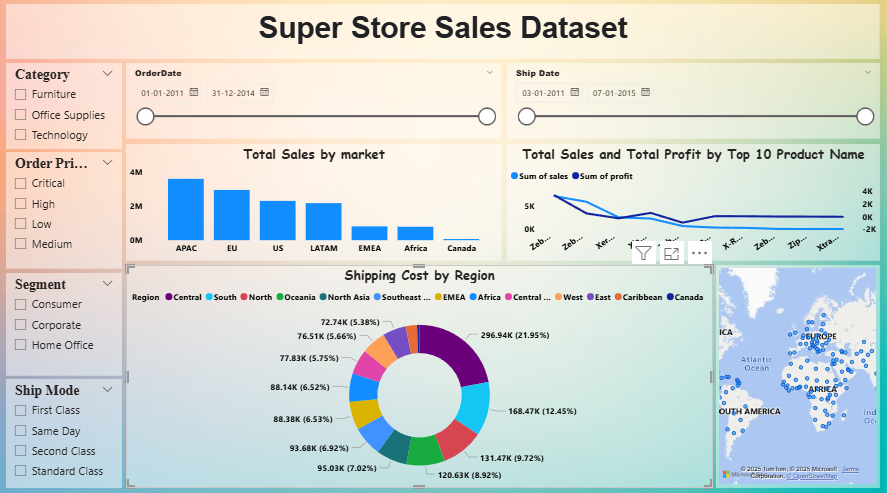

What the dashboard file says about the page in this screenshot:
{"tool":"powerbi","page":{"name":"Page 1","canvas":[1280,720],"ordinal":0},"visuals":[{"type":"textbox","box":[10.1,11.8,1258.2,79],"z":0},{"type":"slicer","fields":{"Values":["SuperStoreOrders.category"]},"box":[10.1,96.5,167,123.8],"z":1},{"type":"slicer","fields":{"Values":["SuperStoreOrders.order_priority"]},"box":[10.1,224.6,167,168.5],"z":2},{"type":"slicer","fields":{"Values":["SuperStoreOrders.segment"]},"box":[10.1,398.9,167,148.3],"z":3},{"type":"slicer","fields":{"Values":["SuperStoreOrders.ship_mode"]},"box":[10.1,551.5,167,157],"z":4},{"type":"slicer","fields":{"Values":["SuperStoreOrders.order_date"]},"box":[182.9,96.5,541.4,109.4],"z":5},{"type":"slicer","fields":{"Values":["SuperStoreOrders.ship_date"]},"box":[731.5,96.5,537.1,109.4],"z":6},{"type":"clusteredColumnChart","title":"Total Sales by market","fields":{"Category":["SuperStoreOrders.market"],"Y":["Sum(SuperStoreOrders.sales)"]},"box":[182.9,213.1,541.4,168.5],"z":7},{"type":"lineChart","title":"Total Sales and Total Profit by Top 10 Product Name","fields":{"Category":["SuperStoreOrders.product_name"],"Y":["Sum(SuperStoreOrders.sales)"],"Y2":["Sum(SuperStoreOrders.profit)"]},"box":[732,213,537,168],"z":8},{"type":"donutChart","title":"Shipping Cost by Region","fields":{"Category":["SuperStoreOrders.region"],"Y":["Sum(SuperStoreOrders.shipping_cost)"]},"box":[182.9,387.4,845.3,321.1],"z":9},{"type":"map","fields":{"Category":["SuperStoreOrders.country"]},"box":[1032.5,387.4,236.2,321.1],"z":10}]}

Visuals, with their boxes in screenshot pixels (x1, y1, x2, y2), scaled from the page's 1280x720 canvas onto the 887x493 screenshot:
textbox: 7,8,879,62
slicer - SuperStoreOrders.category: 7,66,123,151
slicer - SuperStoreOrders.order_priority: 7,154,123,269
slicer - SuperStoreOrders.segment: 7,273,123,375
slicer - SuperStoreOrders.ship_mode: 7,378,123,485
slicer - SuperStoreOrders.order_date: 127,66,502,141
slicer - SuperStoreOrders.ship_date: 507,66,879,141
"Total Sales by market" clusteredColumnChart: 127,146,502,261
"Total Sales and Total Profit by Top 10 Product Name" lineChart: 507,146,879,261
"Shipping Cost by Region" donutChart: 127,265,713,485
map - SuperStoreOrders.country: 715,265,879,485
